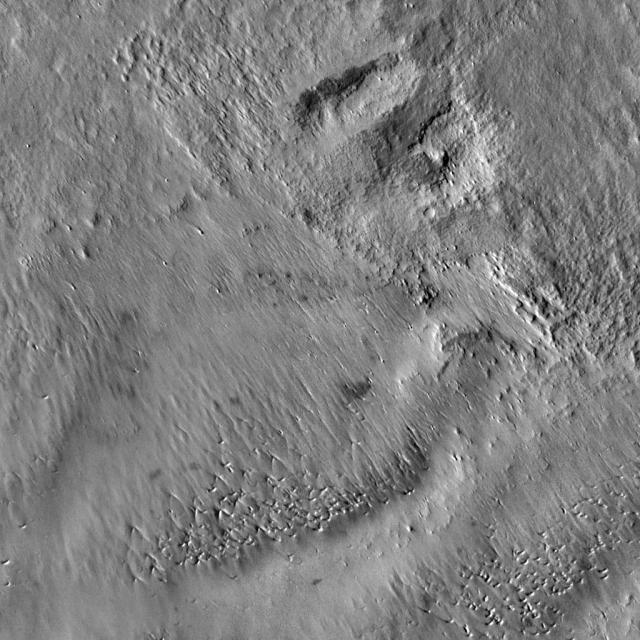crater: (428, 212, 439, 222)
